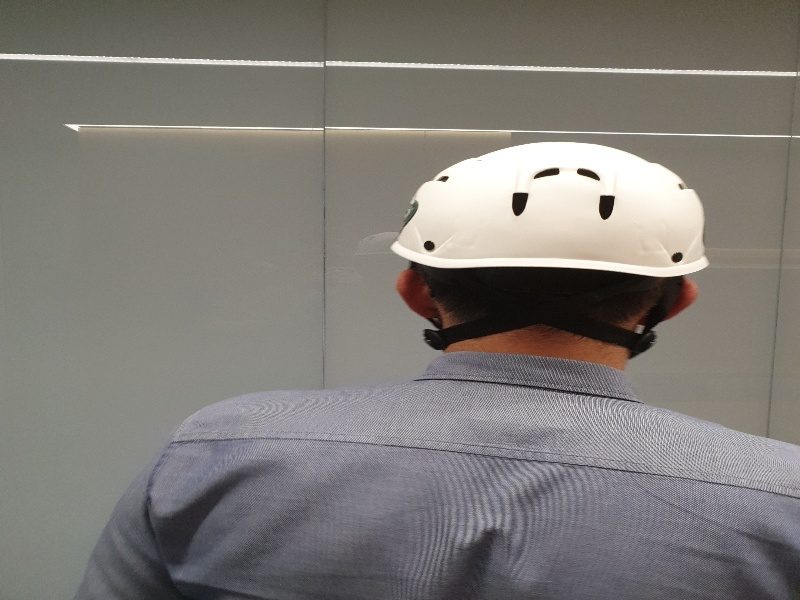Baret: (392, 140, 715, 286)
